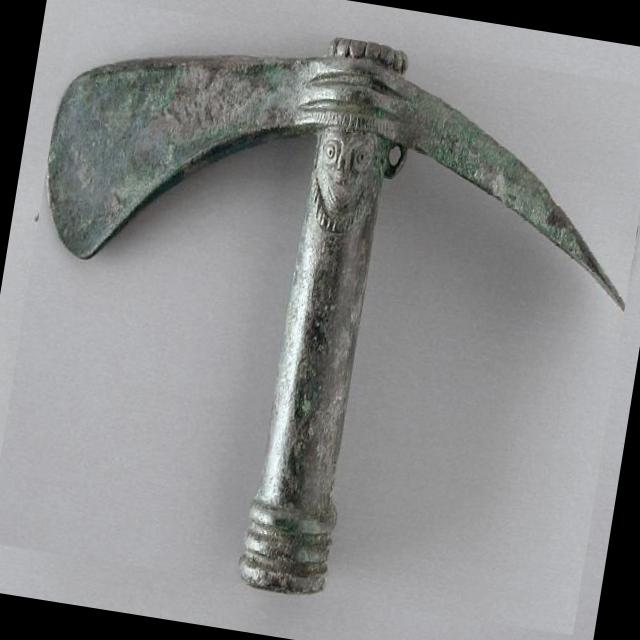Axe: (48, 40, 624, 594)
